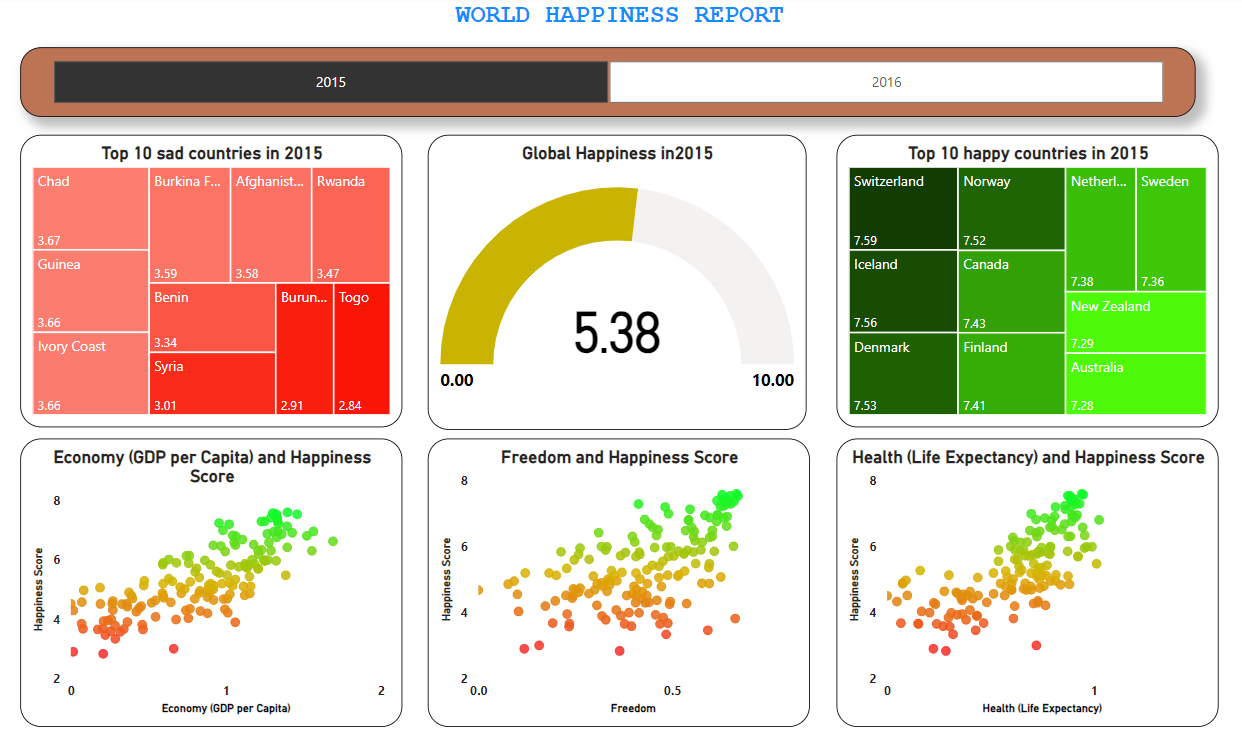

This screenshot's page, from the dashboard's own definition file:
{"tool":"powerbi","page":{"name":"Page 1","canvas":[1280,720],"ordinal":0},"visuals":[{"type":"slicer","fields":{"Values":["World Happiness Report.Source.Name"]},"box":[78.4,49.5,1134.1,67.6],"z":0},{"type":"gauge","fields":{"Y":["Avg(World Happiness Report.Happiness Score)"]},"box":[471.7,133.9,365.6,284.7],"z":1000},{"type":"treemap","fields":{"Group":["World Happiness Report.Country"],"Values":["Avg(World Happiness Report.Happiness Score)"]},"box":[866.2,133.9,369.2,282.3],"z":2000},{"type":"treemap","fields":{"Group":["World Happiness Report.Country"],"Values":["Avg(World Happiness Report.Happiness Score)"]},"box":[78.4,133.9,369.2,282.3],"z":3000},{"type":"scatterChart","fields":{"Y":["World Happiness Report.Happiness Score"],"X":["World Happiness Report.Economy (GDP per Capita)"]},"box":[78.4,427.1,369.2,278.7],"z":4000},{"type":"scatterChart","fields":{"Y":["World Happiness Report.Happiness Score"],"X":["World Happiness Report.Health (Life Expectancy)"]},"box":[866.2,427.1,369.2,278.7],"z":5000},{"type":"scatterChart","fields":{"Y":["World Happiness Report.Happiness Score"],"X":["World Happiness Report.Freedom"]},"box":[471.7,427.1,369.2,278.7],"z":6000},{"type":"textbox","box":[447.6,0,418.6,39.8],"z":7000}]}

Visuals, with their boxes in screenshot pixels (x1, y1, x2, y2):
slicer - World Happiness Report.Source.Name: detection(22, 44, 1189, 114)
gauge - Avg(World Happiness Report.Happiness Score): detection(427, 131, 803, 424)
treemap - World Happiness Report.Country x Avg(World Happiness Report.Happiness Score): detection(833, 131, 1212, 422)
treemap - World Happiness Report.Country x Avg(World Happiness Report.Happiness Score): detection(22, 131, 402, 422)
scatterChart - World Happiness Report.Happiness Score x World Happiness Report.Economy (GDP per Capita): detection(22, 433, 402, 719)
scatterChart - World Happiness Report.Happiness Score x World Happiness Report.Health (Life Expectancy): detection(833, 433, 1212, 719)
scatterChart - World Happiness Report.Happiness Score x World Happiness Report.Freedom: detection(427, 433, 807, 719)
textbox: detection(402, 0, 833, 34)
